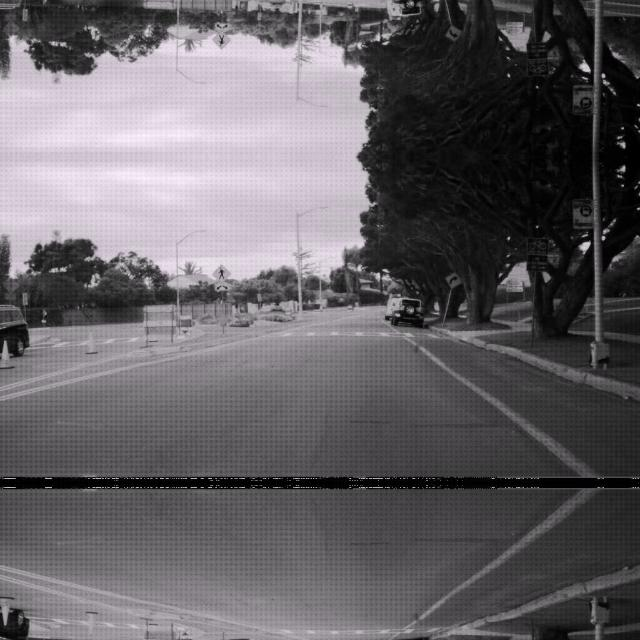pedestrianCrossing: (211, 262, 231, 282), (211, 30, 231, 50)
